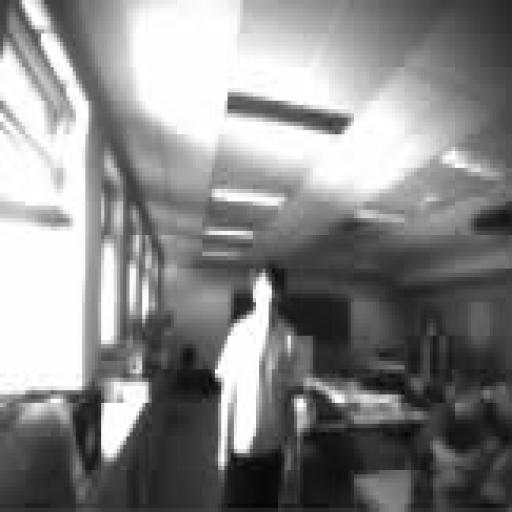human: (215, 265, 300, 507), (406, 375, 512, 476)
